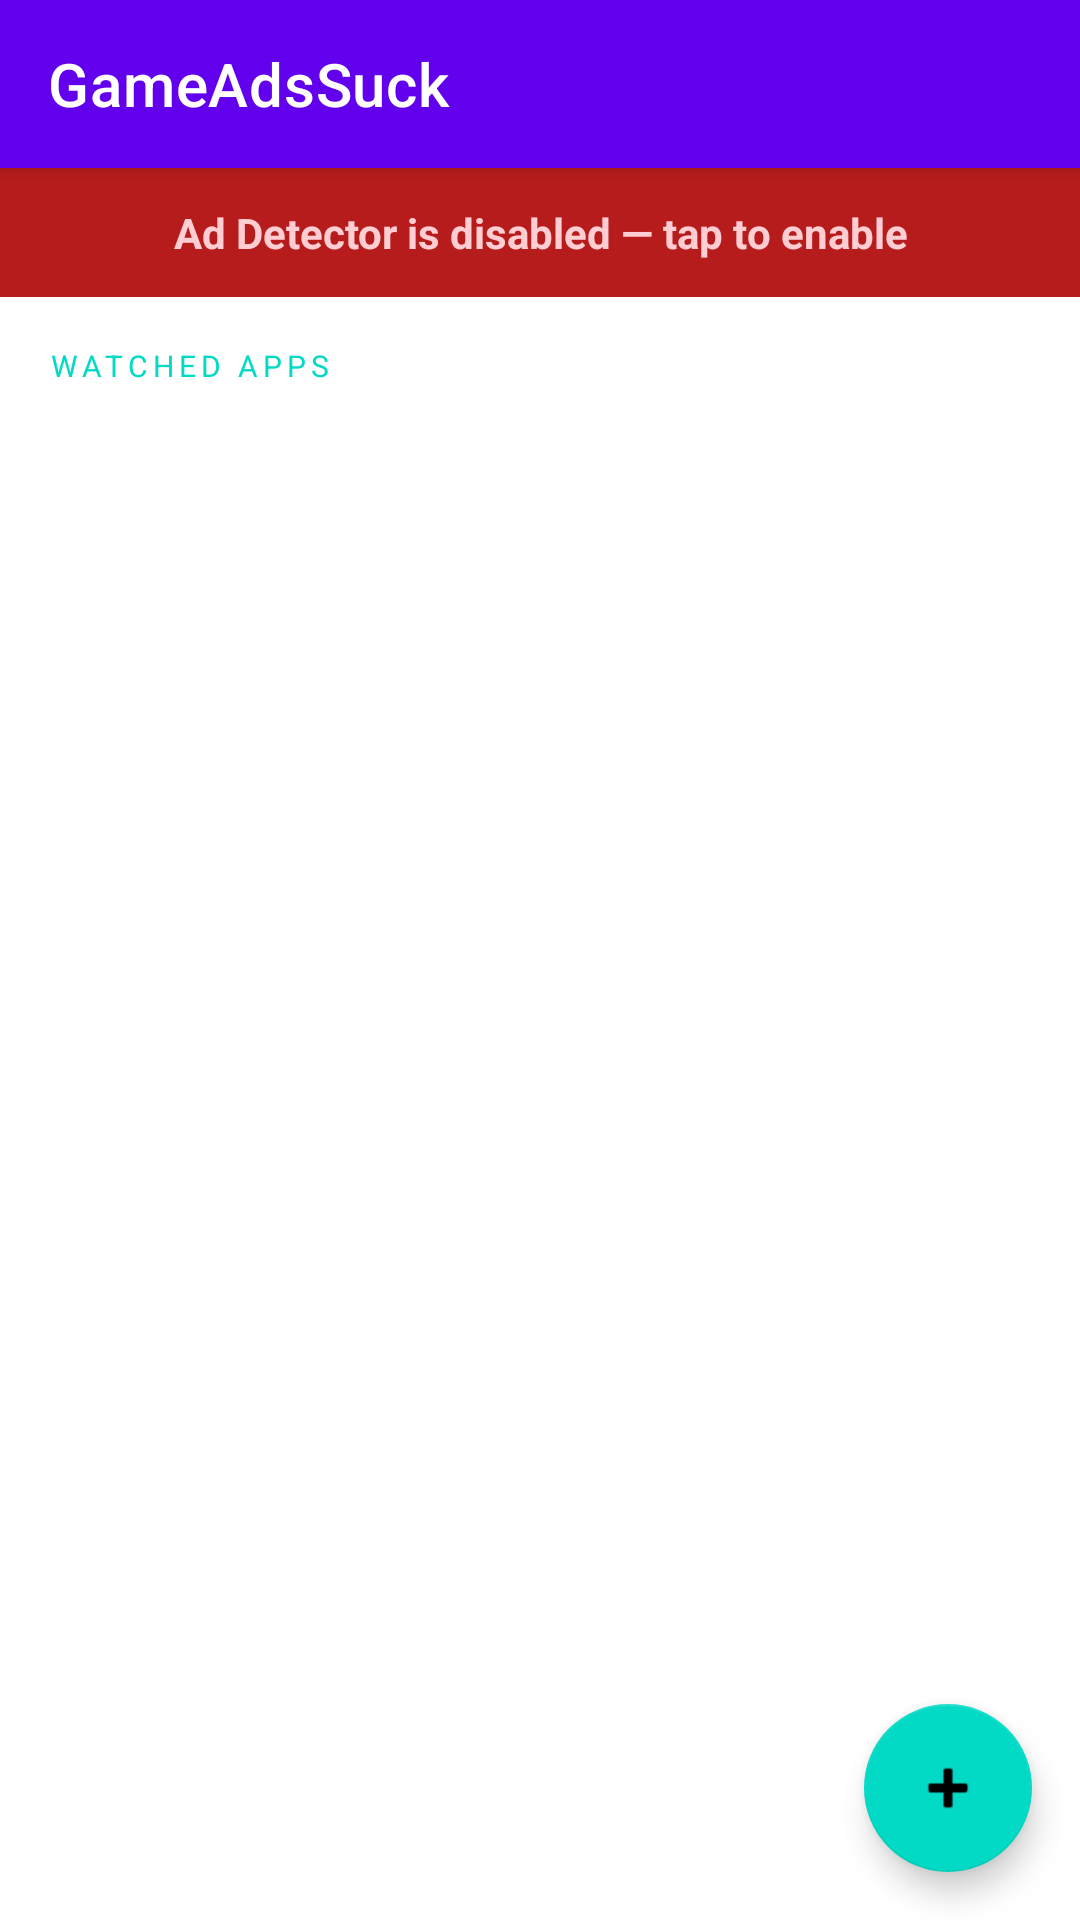

Screen size 1080px×1920px. Icon name, then its box in pixels as (x1, y1, x2, y2):
Add app: (864, 1704, 1032, 1872)
